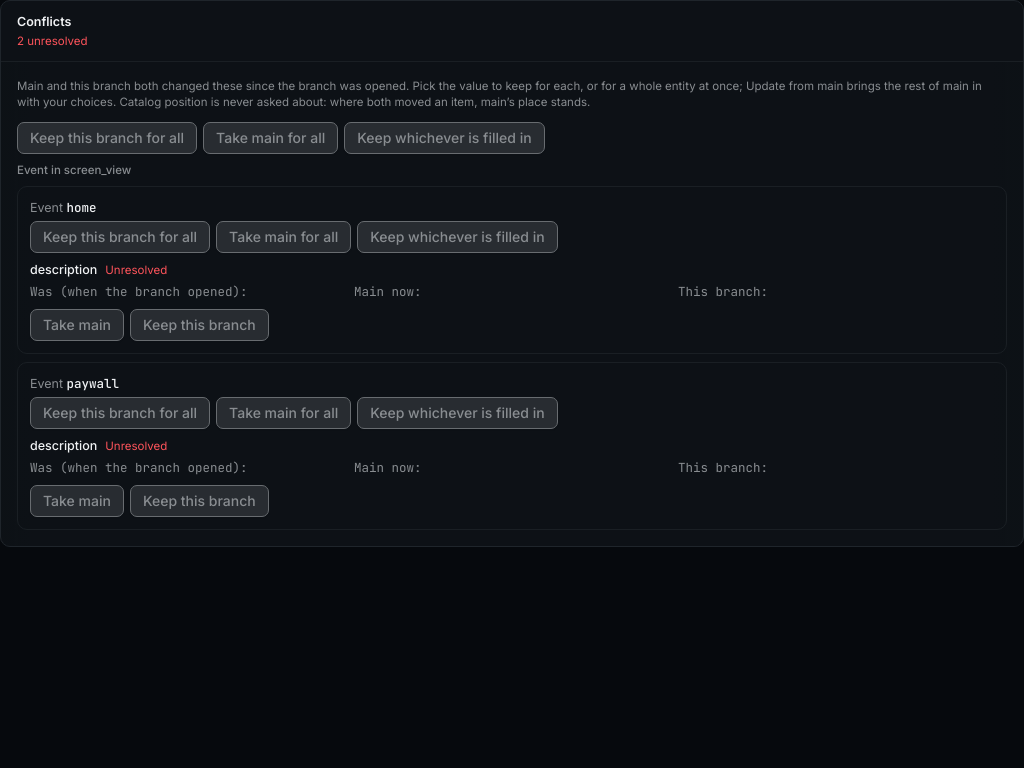
Test: ConflictsPanel › puts the field back when the save fails, and says so
Expected: the text "2 unresolved" is shown, [17, 34, 88, 48]
Step 1. Click the button "Take main" below "home" → (77, 325), box [30, 309, 124, 341]
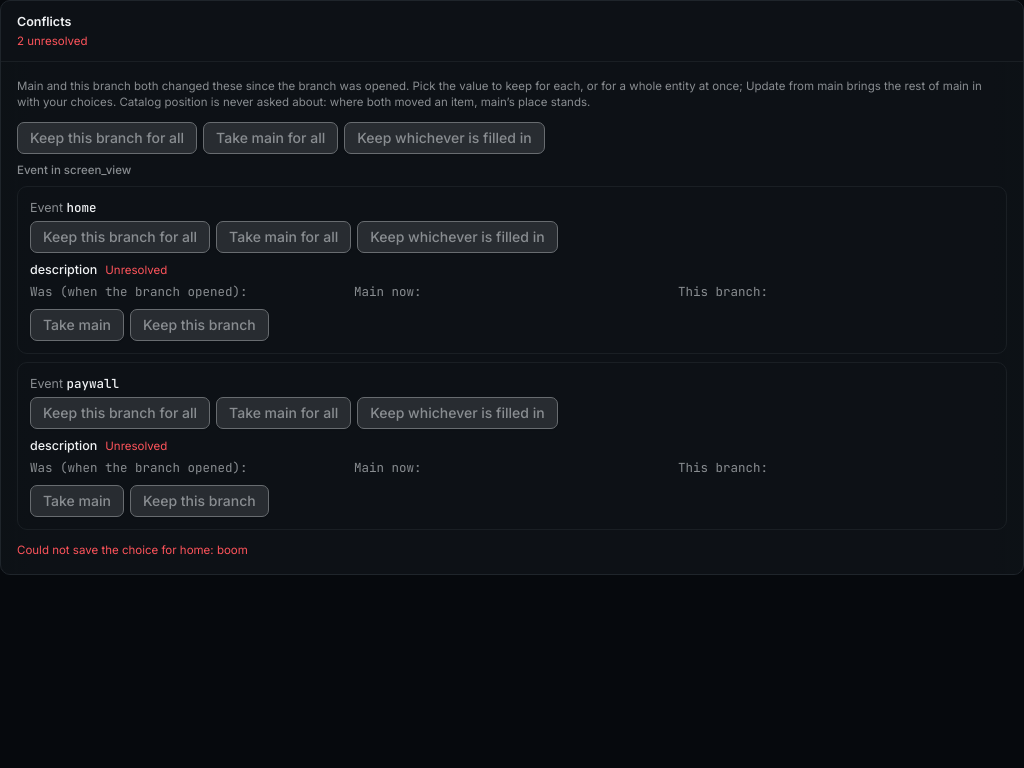
Expected: the 1st text "Unresolved" is shown, [105, 262, 167, 278]
Result: the message shows "Could not save the choice for home" at [17, 543, 248, 557]
